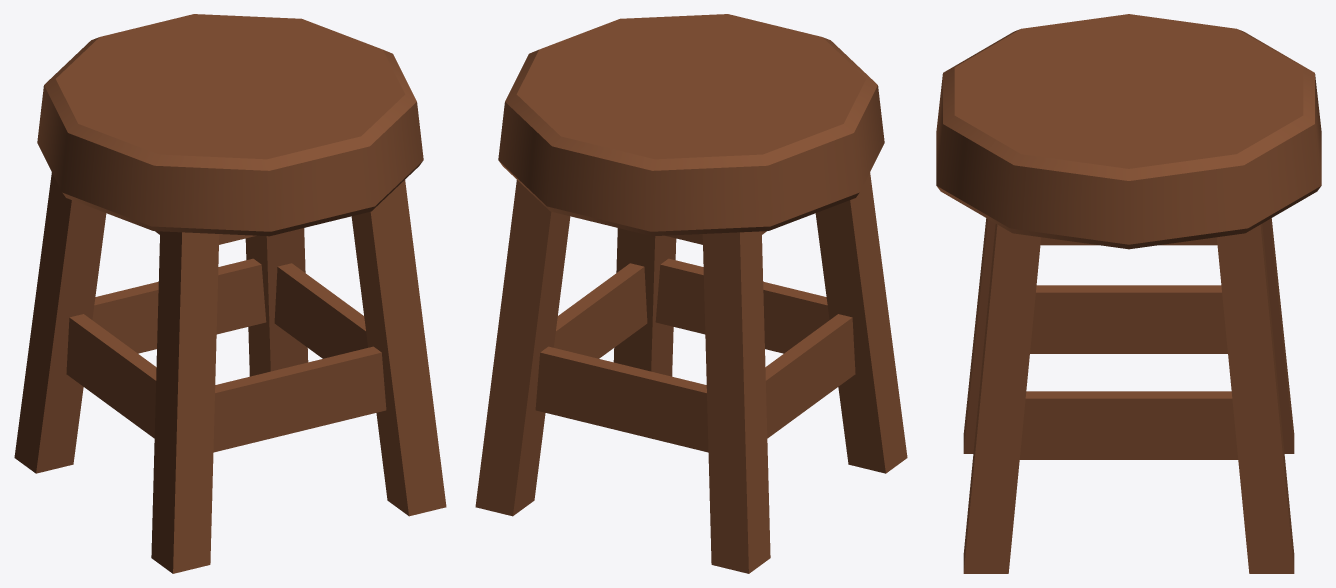
The model's file is 19_furniture_chair2.FBX.
3 views of the same model, side by side, from view 1: azimuth 30°, elevation 25°; view 2: azimuth 150°, elevation 25°; view 3: azimuth 270°, elevation 25° (orthographic). The views are drawn at different scales.
Visible parts, largest first — view 1: furniture_chair2; view 2: furniture_chair2; view 3: furniture_chair2.
Part boxes in pixels (x1,y1,x2,y2): furniture_chair2: (14,14,446,573); furniture_chair2: (475,14,907,573); furniture_chair2: (936,14,1321,573).
Bounding box in the file's own units: 25.3 × 28.44 × 24.06.
